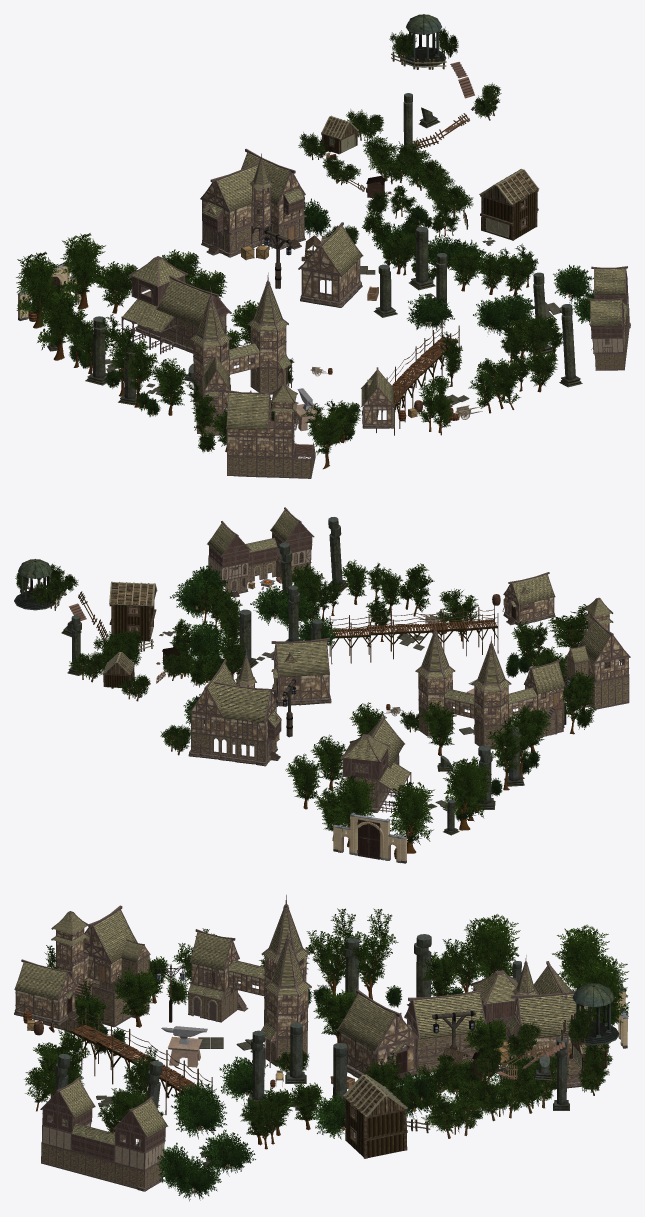
The model's file is lost_village_level0.glb.
3 views of the same model, one above another, from view 1: azimuth 30°, elevation 25°; view 2: azimuth 150°, elevation 25°; view 3: azimuth 270°, elevation 25° (orthographic). The views are drawn at different scales.
Parts seen in each view (by area): view 1: Roof_LOD0 (×13), Plane.000 (×2), tree03 (2), tree03 (1), tree03, MiniTemple, bush06 (7), tree04 (3), tree02 (16), bush06 (9), tree04 (4), tree02 (10) (+30 smaller); view 2: Roof_LOD0 (×13), Plane.000 (×2), tree03, tree03 (1), tree03 (2), MiniTemple, tree02 (15), tree01 (13), tree01 (15), tree02 (10), Big1, tree01 (17) (+31 smaller); view 3: Roof_LOD0 (×15), Plane.000, tree03 (1), bush06 (8), bush06 (7), tree02 (16), tree03, tree02 (15), Wall_LOD0 (×4), MiniTemple, tree03 (2), tree01 (10) (+42 smaller).
Boxes of the visible parts, x1,y1,x2,y2 form: Roof_LOD0 (×13): [123, 148, 627, 430]; Plane.000 (×2): [321, 115, 539, 240]; tree03 (2): [60, 233, 106, 309]; tree03 (1): [36, 284, 82, 360]; tree03: [16, 251, 61, 328]; MiniTemple: [403, 14, 446, 67]; bush06 (7): [420, 164, 473, 216]; tree04 (3): [468, 358, 520, 413]; tree02 (16): [113, 325, 158, 407]; bush06 (9): [363, 135, 412, 184]; tree04 (4): [417, 376, 454, 435]; tree02 (10): [301, 403, 348, 469]; Roof_LOD0 (×13): [189, 507, 630, 792]; Plane.000 (×2): [103, 581, 157, 688]; tree03: [389, 782, 434, 853]; tree03 (1): [442, 758, 488, 830]; tree03 (2): [330, 775, 376, 847]; MiniTemple: [14, 559, 56, 610]; tree02 (15): [487, 716, 524, 790]; tree01 (13): [419, 700, 456, 755]; tree01 (15): [285, 753, 322, 809]; tree02 (10): [548, 604, 587, 647]; Big1: [333, 816, 406, 861]; tree01 (17): [310, 734, 346, 790]; Roof_LOD0 (×15): [14, 894, 592, 1138]; Plane.000: [343, 1074, 407, 1158]; tree03 (1): [463, 914, 520, 979]; bush06 (8): [467, 1062, 538, 1121]; bush06 (7): [421, 1080, 490, 1138]; tree02 (16): [305, 908, 361, 995]; tree03: [552, 924, 609, 991]; tree02 (15): [341, 908, 398, 999]; Wall_LOD0 (×4): [92, 986, 515, 1075]; MiniTemple: [567, 983, 619, 1045]; tree03 (2): [571, 955, 629, 1043]; tree01 (10): [113, 968, 159, 1027].
Size of what is drawn, in the model's own units: 936 by 421 by 927.
143 materials, 138 textured.
